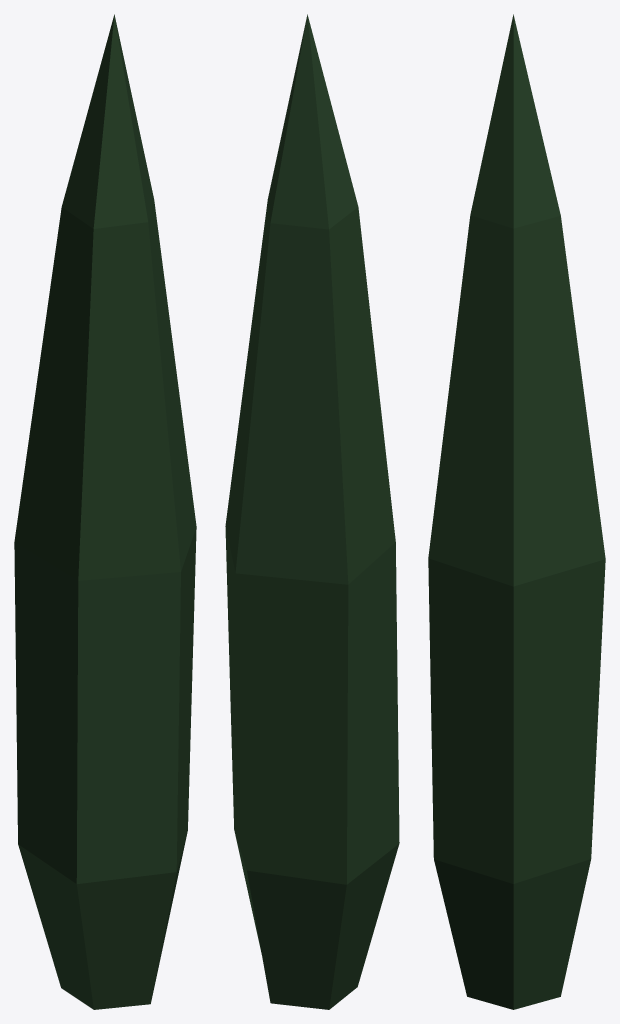
The model's file is cypress_far.glb.
The picture shows the model from 3 angles, left to right: view 1: azimuth 30°, elevation 25°; view 2: azimuth 150°, elevation 25°; view 3: azimuth 270°, elevation 25°; orthographic projection.
Visible parts, largest first — view 1: cypress_far; view 2: cypress_far; view 3: cypress_far.
Part boxes in pixels (<box>): cypress_far: <box>14,14,196,1009</box>; cypress_far: <box>225,14,399,1009</box>; cypress_far: <box>428,14,605,1009</box>.
Size of the model in its own units: 1.8 by 11 by 1.81.
